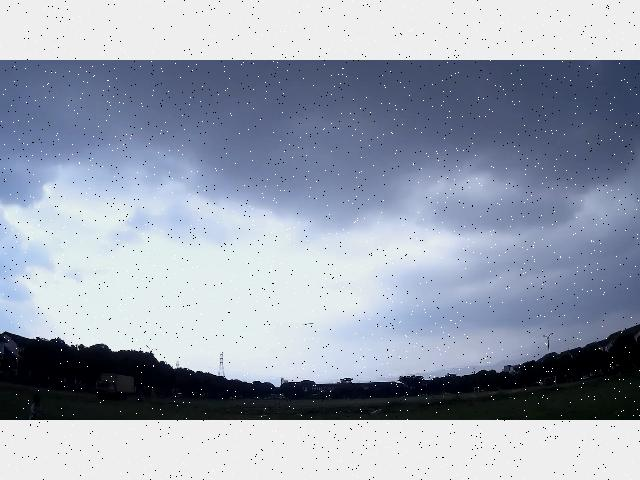Anti-Drone: (298, 323, 314, 325)
